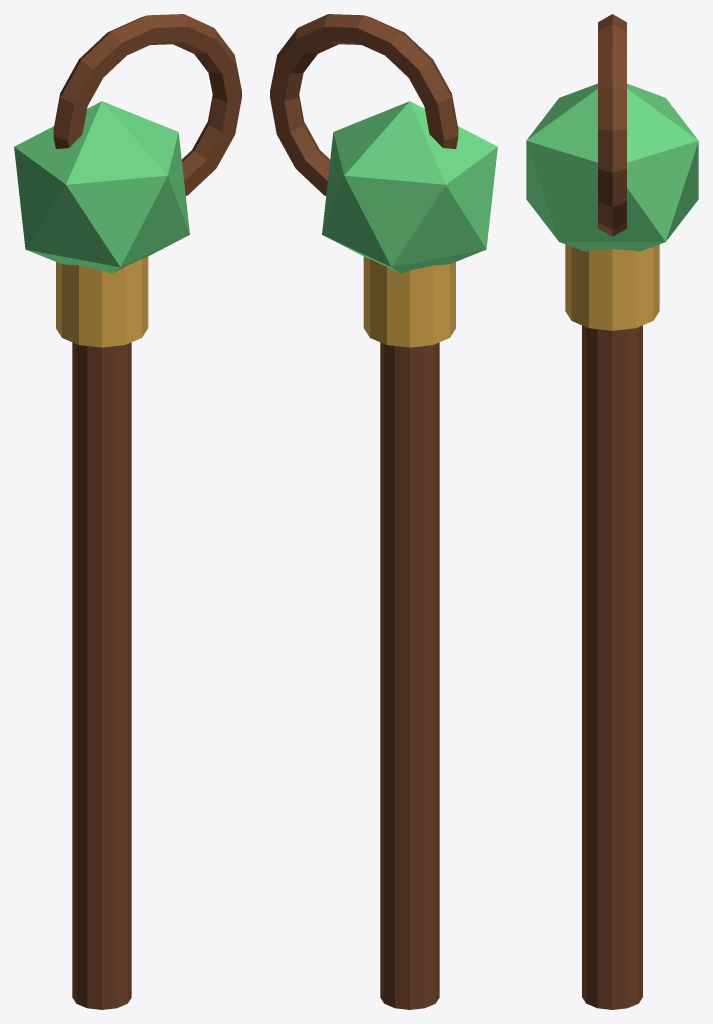
Rendered from trail-cane-1.glb.
The picture shows the model from 3 angles, left to right: view 1: azimuth 30°, elevation 25°; view 2: azimuth 150°, elevation 25°; view 3: azimuth 270°, elevation 25°; orthographic projection. The views are drawn at different scales.
Parts seen in each view (by area): view 1: Cylinder, Icosphere, Torus, Cylinder.001; view 2: Cylinder, Icosphere, Torus, Cylinder.001; view 3: Cylinder, Icosphere, Cylinder.001, Torus.
Boxes of the visible parts, box(x1,y1,x2,y2) form: Cylinder: box(72, 342, 131, 1009); Icosphere: box(14, 101, 189, 273); Torus: box(53, 14, 241, 195); Cylinder.001: box(56, 256, 148, 347); Cylinder: box(380, 342, 439, 1009); Icosphere: box(322, 101, 497, 273); Torus: box(270, 14, 458, 195); Cylinder.001: box(363, 256, 455, 347); Cylinder: box(582, 325, 642, 1009); Icosphere: box(526, 83, 698, 251); Cylinder.001: box(565, 244, 659, 330); Torus: box(598, 14, 626, 236).
Size of the model in its own units: 0.3792 by 1.62 by 0.2552.
